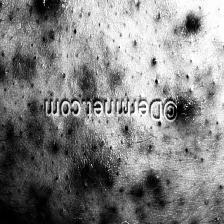Non-Cancerous Skin Condition: (74, 146, 114, 186), (41, 0, 65, 10), (186, 15, 196, 28), (178, 104, 182, 114)
